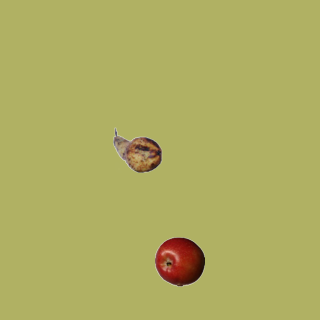Apple Braeburn: (154, 236, 204, 286)
Pear Abate: (112, 125, 162, 175)
